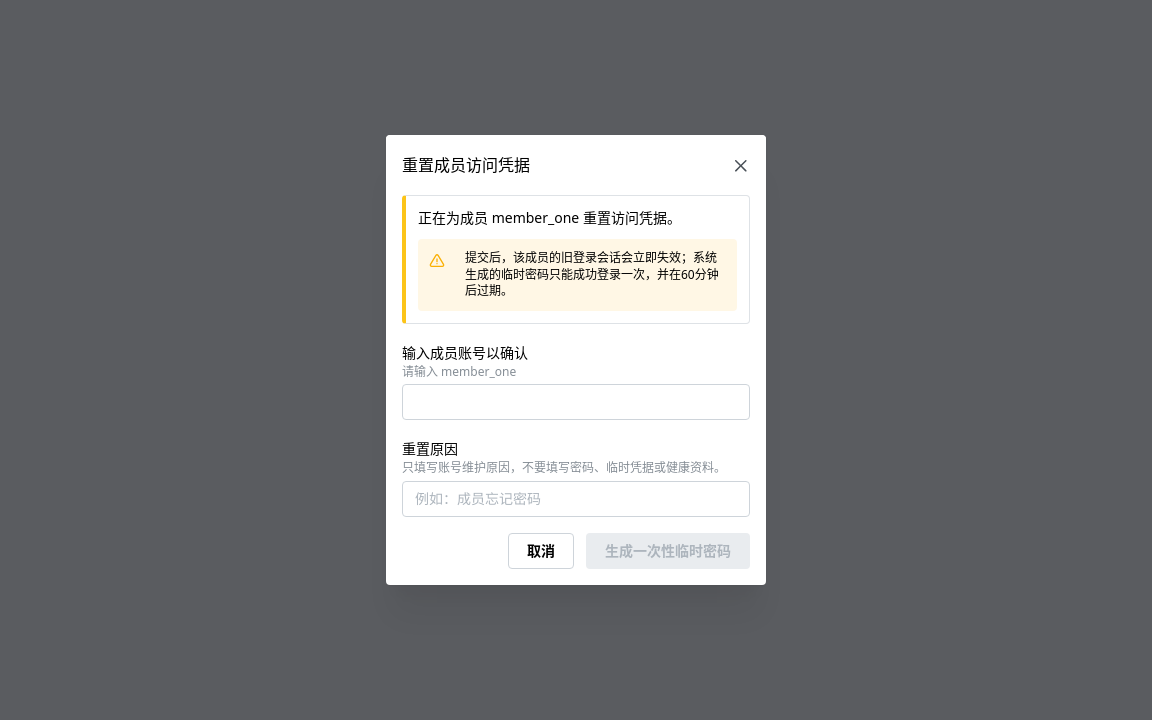
Test: AdminResetPasswordModal › never accepts an administrator-selected password
Expected: the button with test id "model-edit-issue-reset" is disabled, [586,532,750,568]
Type "member_one" into the field with test id "model-edit-reset-confirm" at x=576, y=402, box [402,384,750,420]
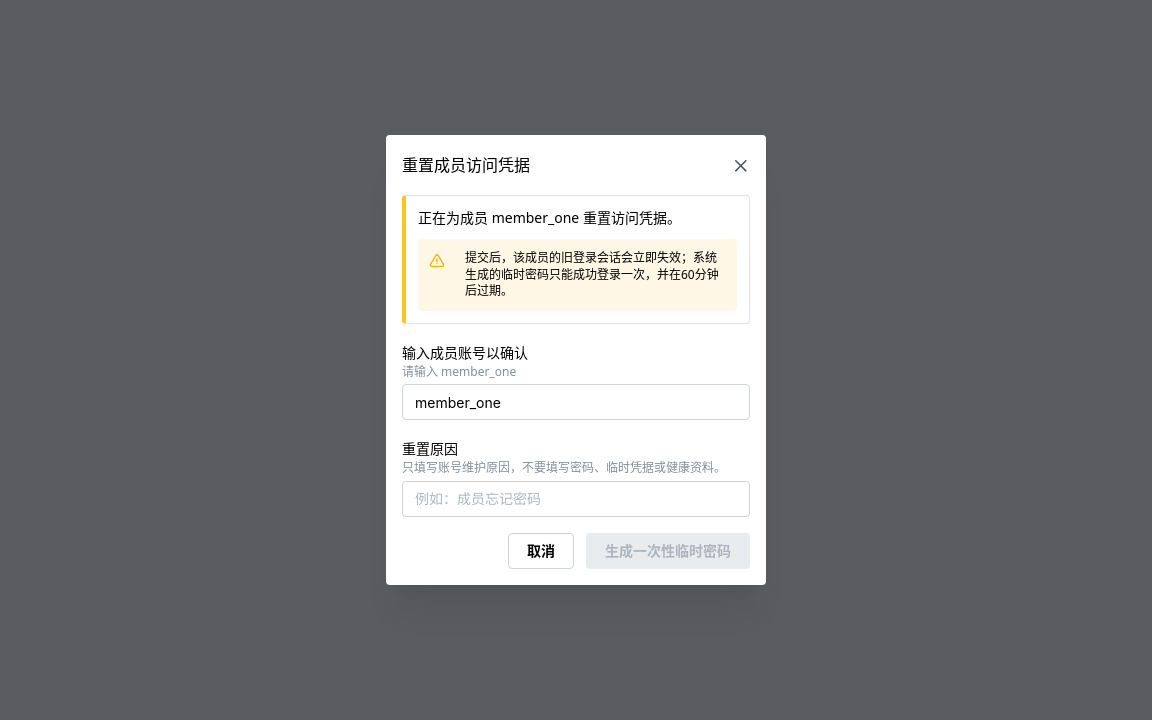
Type "成员忘记密码" into the field with test id "model-edit-reset-reason" at x=576, y=498, box [402,480,750,516]
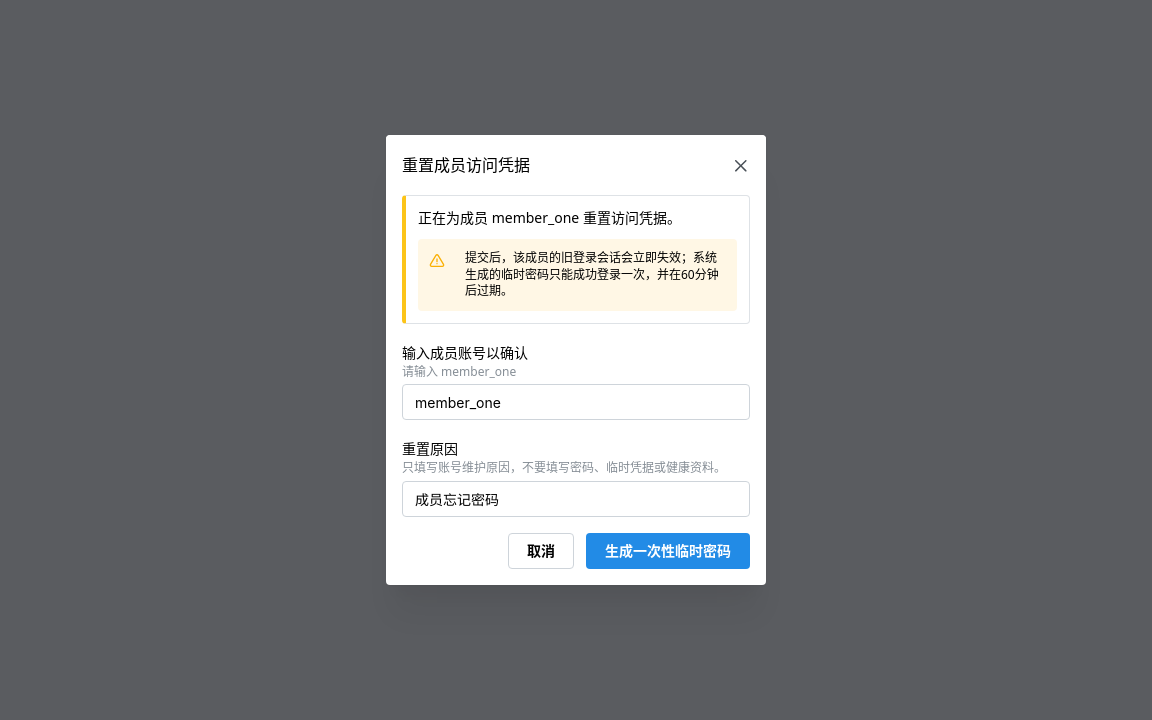
Click the button with test id "model-edit-issue-reset" at x=668, y=550, box [586,532,750,568]
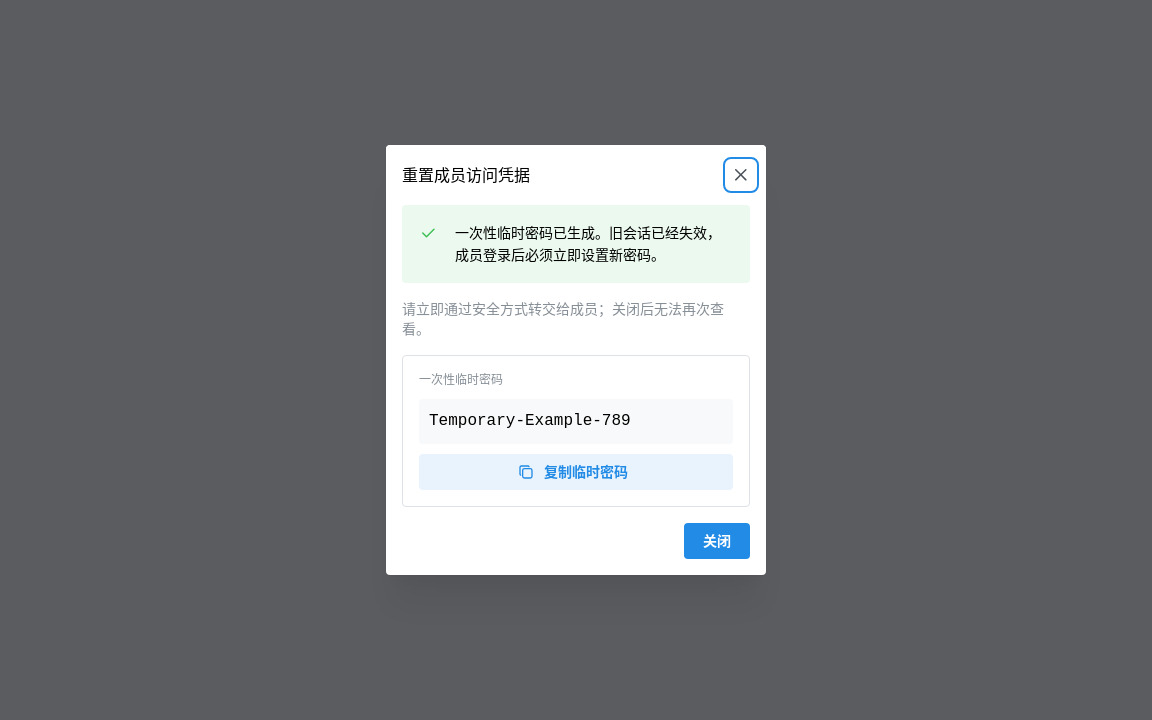
Now the text with test id "model-edit-temporary-password" reads "Temporary-Example-789", box [429,412,631,430]
Now the text "请立即通过安全方式转交给成员；关闭后无法再次查看。" is shown, box [402,299,750,339]
